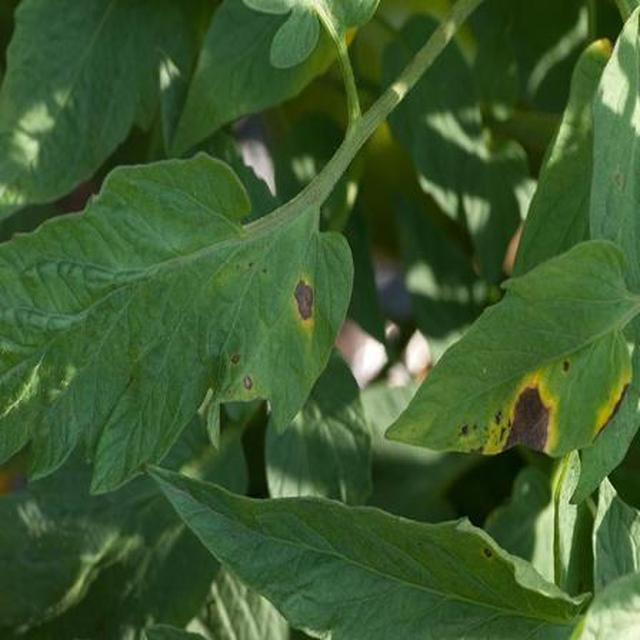Early Blight Leaf: (252, 336, 640, 503)
